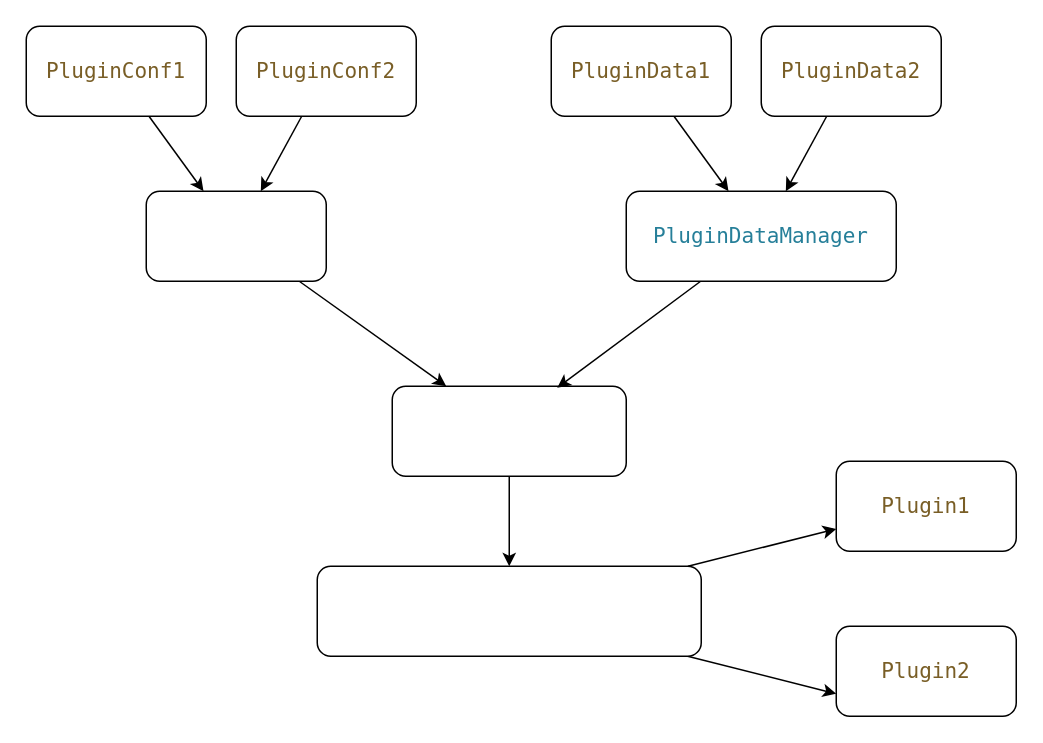
The diagram is 1043 pixels wide and 743 high, and some of its shapes have lost their labels. Each missing label, with the centre of its shape:
"ConfManager" goes at point 235,235.
"PluginGlobalDataRegister" goes at point 508,610.
"PluginGlobalEnv" goes at point 508,430.
